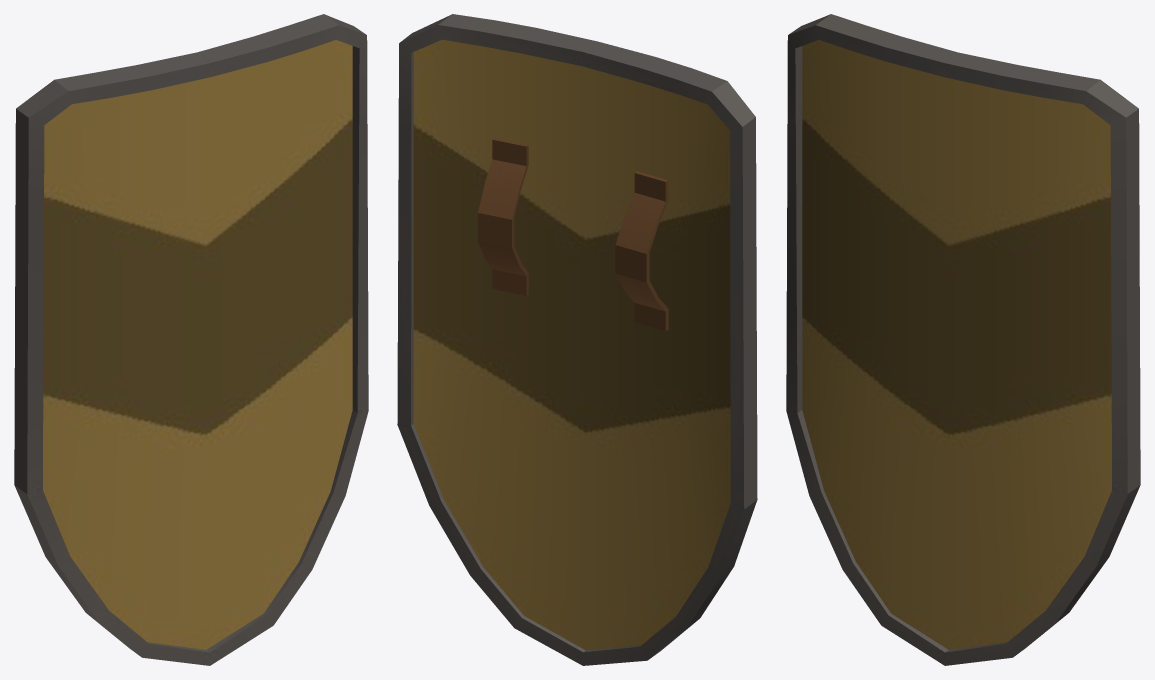
The model's file is Heater Shield_Yellow.fbx.
3 views of the same model, side by side, from view 1: azimuth 30°, elevation 25°; view 2: azimuth 150°, elevation 25°; view 3: azimuth 330°, elevation 25° (orthographic).
Parts seen in each view (by area): view 1: Heater Shield_Yellow_Baked; view 2: Heater Shield_Yellow_Baked; view 3: Heater Shield_Yellow_Baked.
Part boxes in pixels (box(x1,y1,x2,y2)): Heater Shield_Yellow_Baked: box(14, 14, 368, 665); Heater Shield_Yellow_Baked: box(397, 14, 757, 665); Heater Shield_Yellow_Baked: box(786, 14, 1140, 665).
Size of the model in its own units: 49.83 by 84.28 by 8.78.
1 material, 1 textured.
